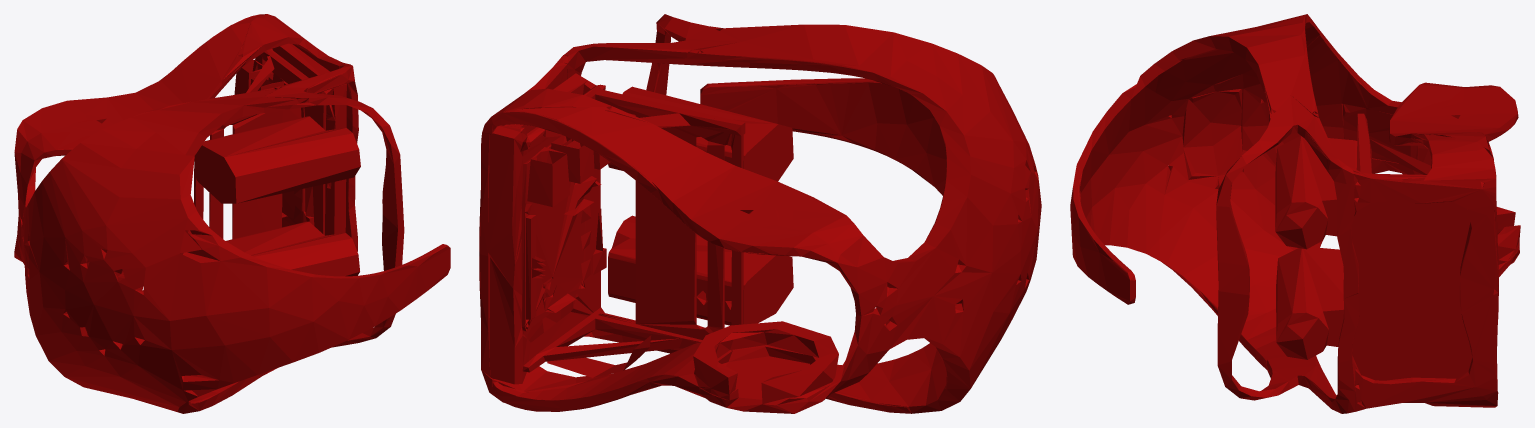
File: head_v1.obj
3 views of the same model, side by side, from view 1: azimuth 30°, elevation 25°; view 2: azimuth 150°, elevation 25°; view 3: azimuth 270°, elevation 25° (orthographic). The views are drawn at different scales.
Visible parts, largest first — view 1: head_v1; view 2: head_v1; view 3: head_v1.
Part boxes in pixels (x1,y1,x2,y2): head_v1: (14, 14, 450, 413); head_v1: (479, 14, 1041, 413); head_v1: (1070, 14, 1520, 413).
Bounding box in the file's own units: 0.2144 × 0.1785 × 0.2394.
